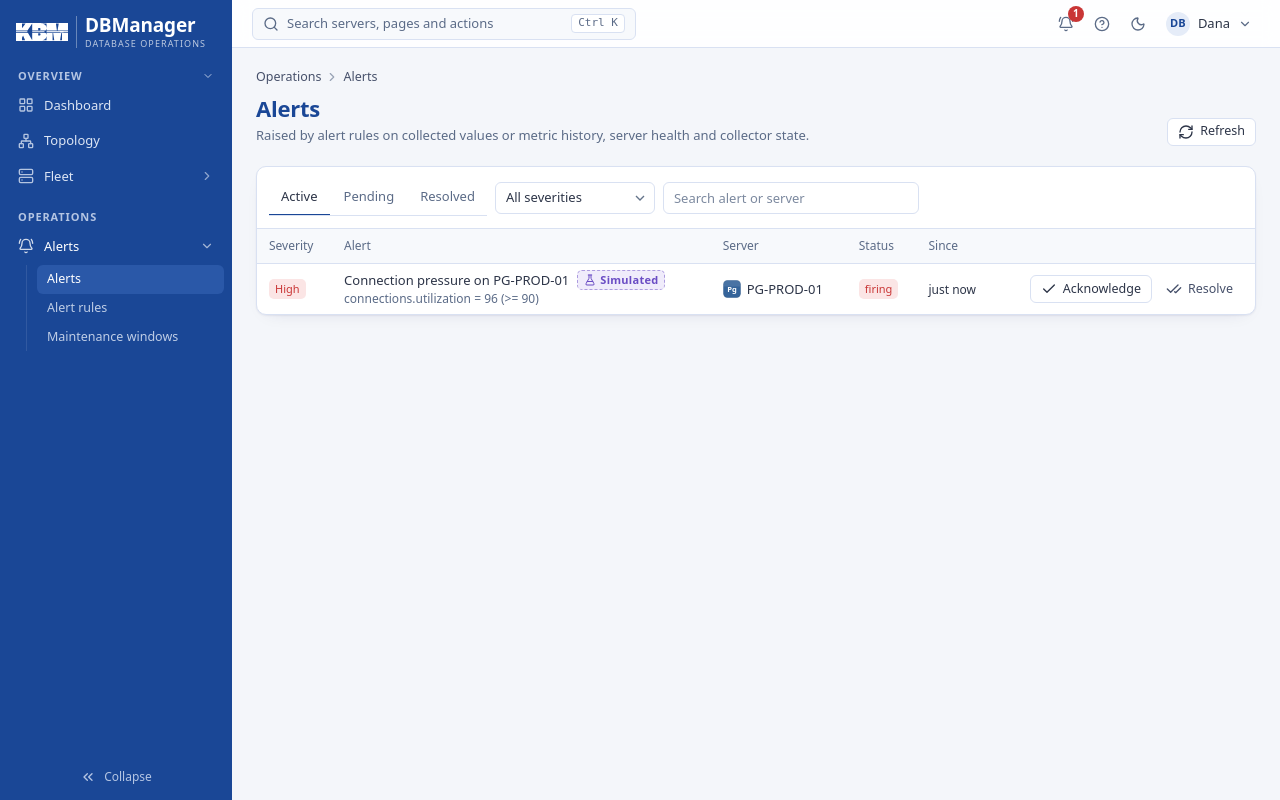
Test case: alerts › lists active alerts, shows the top-bar count and acknowledges with a comment
expect the button "Connection pressure on PG-PROD-01" is shown: met, box [344,270,569,290]
expect the text "Simulated" is shown: met, box [577,270,666,290]
Click the button "Acknowledge" at (1091,289), box [1030,275,1152,303]
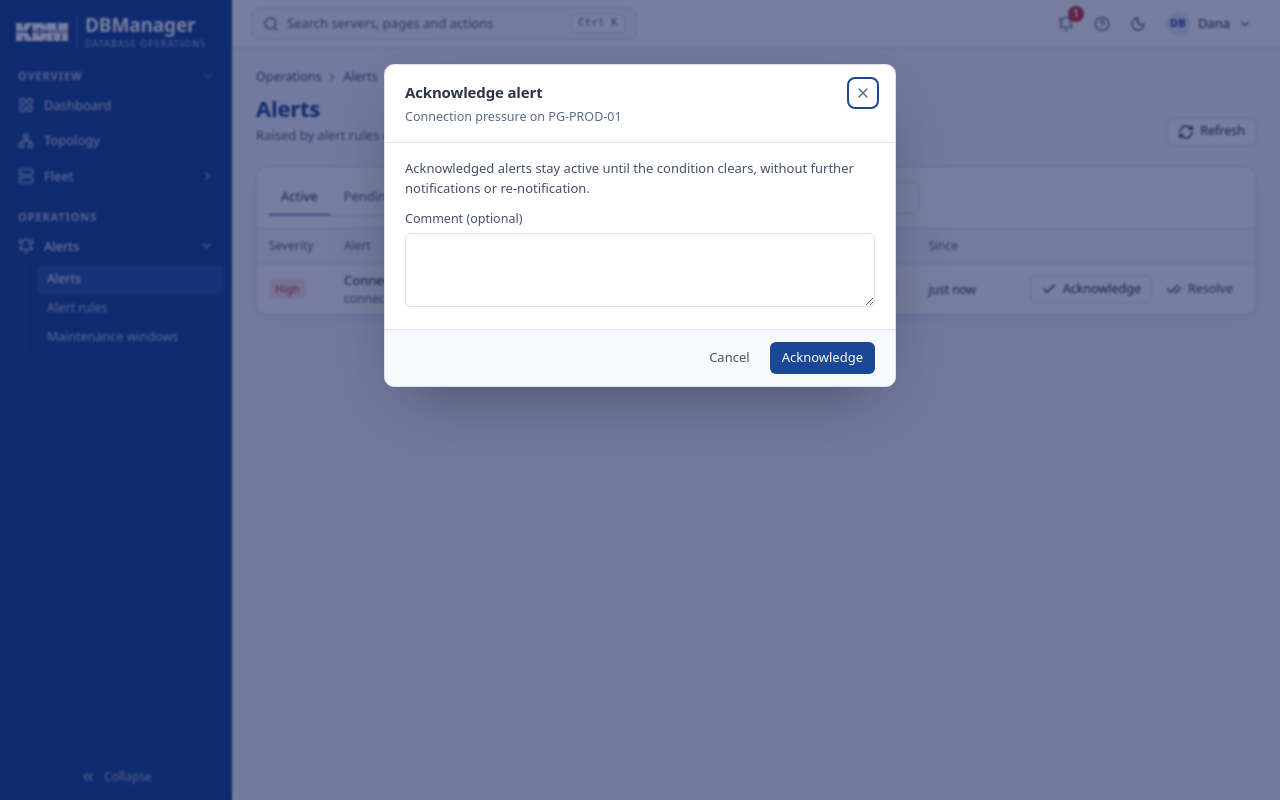
Type "on it" into the text box labelled "Comment (optional)" at (640,270), box [405,233,875,307]
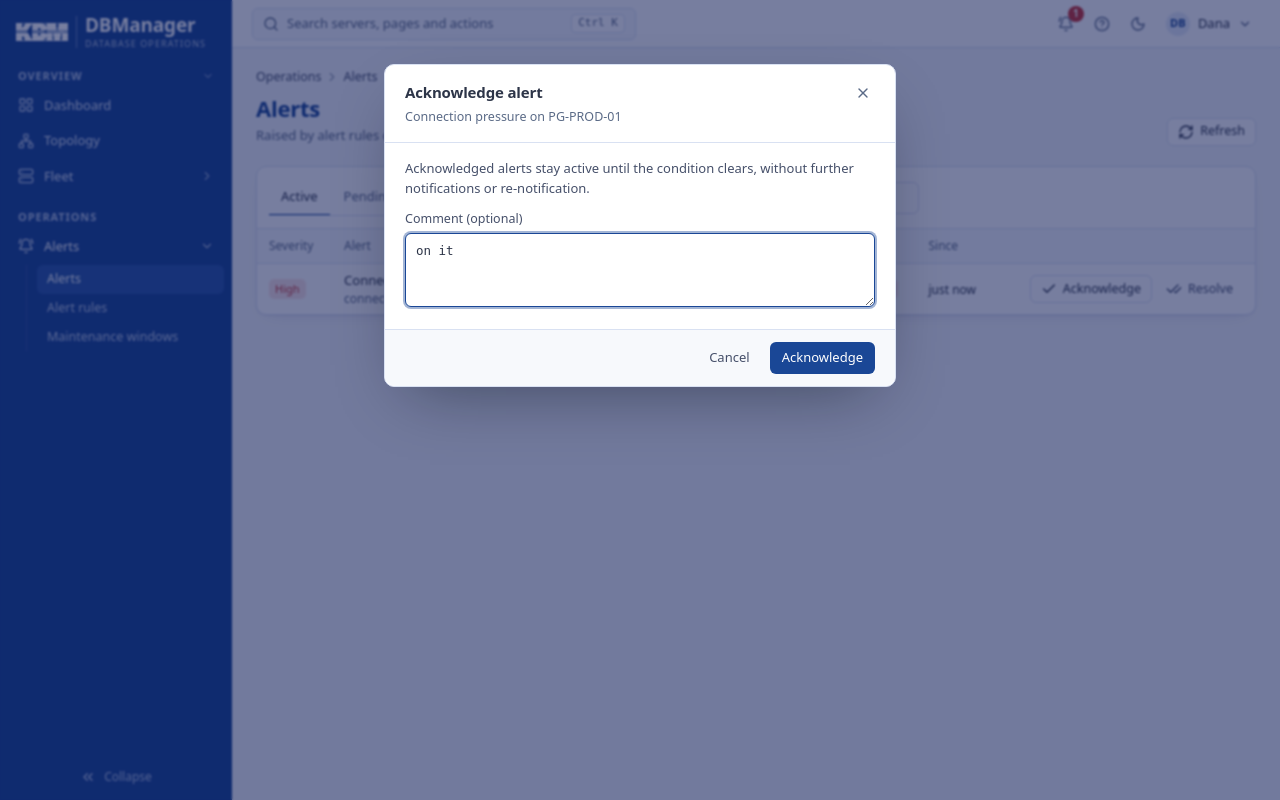
Click the button "Acknowledge" at (822,358), box [770,342,875,374]
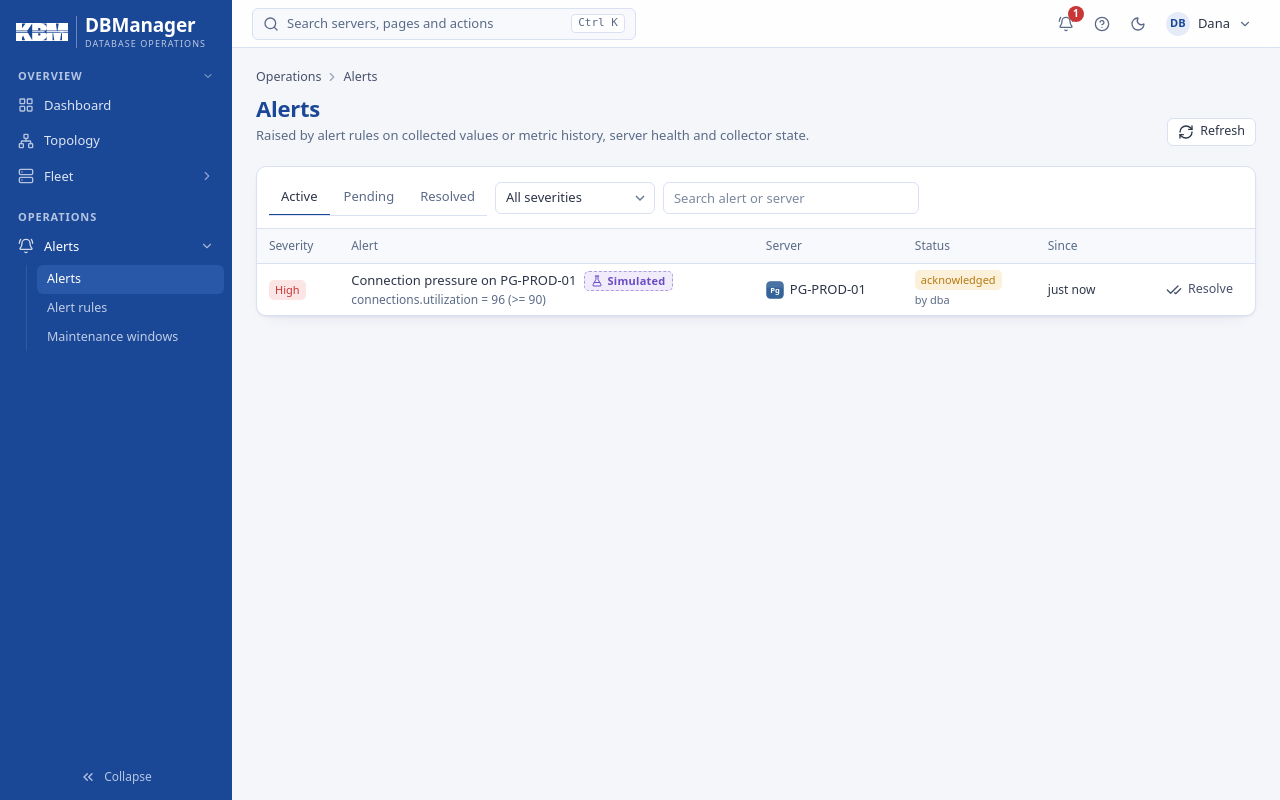
expect the text "by dba" is shown: met, box [915,292,950,307]
